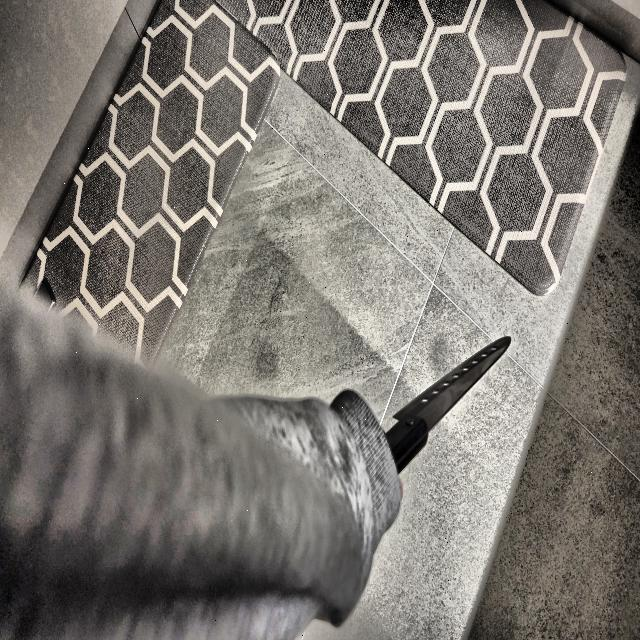knife: (378, 332, 512, 480)
